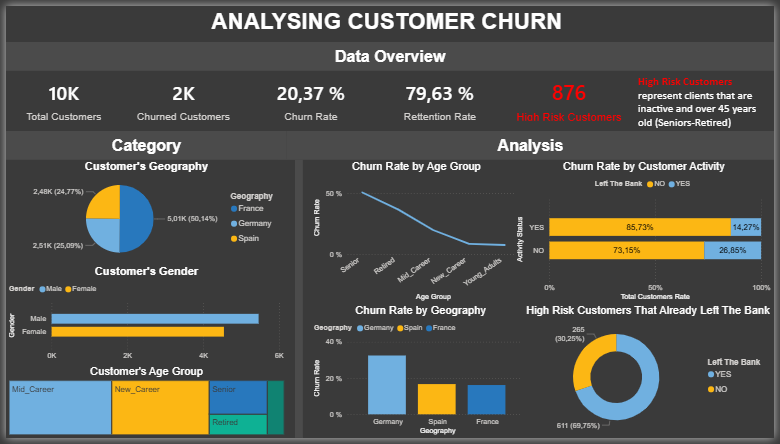

The page's visual inventory and layout, read from the dashboard file:
{"tool":"powerbi","page":{"name":"Page 1","canvas":[1280,720],"ordinal":0},"visuals":[{"type":"textbox","box":[0,0,1280.5,60],"z":0},{"type":"textbox","box":[0,60,1280.5,48.3],"z":1000},{"type":"cardVisual","fields":{"Data":["CountNonNull(Churn_Modelling_cleaned_CSV.CustomerId)"]},"box":[0,108.3,193.3,100],"z":2000},{"type":"cardVisual","fields":{"Data":["Churn_Modelling_cleaned_CSV.Churn Rate"]},"box":[398.3,108.3,220,100],"z":3000},{"type":"cardVisual","fields":{"Data":["Churn_Modelling_cleaned_CSV.Churned Customers"]},"box":[193.3,108.3,205,100],"z":5000},{"type":"cardVisual","fields":{"Data":["Churn_Modelling_cleaned_CSV.Rettention Rate"]},"box":[618.3,108.3,210,100],"z":6000},{"type":"cardVisual","fields":{"Data":["Churn_Modelling_cleaned_CSV.High Risk Customers"]},"box":[828.3,108.3,220,100],"z":7000},{"type":"textbox","box":[0,208.3,468.3,48.3],"z":8000},{"type":"pieChart","title":"Customer''s Geography","fields":{"Y":["CountNonNull(Churn_Modelling_cleaned_CSV.Geography)"],"Category":["Churn_Modelling_cleaned_CSV.Geography"]},"box":[0,256.7,468.3,175],"z":9000},{"type":"barChart","title":"Customer''s Gender","fields":{"Category":["Churn_Modelling_cleaned_CSV.Gender"],"Y":["CountNonNull(Churn_Modelling_cleaned_CSV.CustomerId)"],"Series":["Churn_Modelling_cleaned_CSV.Gender"]},"box":[0,431.7,468.3,166.7],"z":10000},{"type":"lineChart","fields":{"Category":["Churn_Modelling_cleaned_CSV.Custom"],"Y":["Churn_Modelling_cleaned_CSV.Churn Rate"]},"box":[508.6,257.1,351.4,240],"z":11000},{"type":"textbox","box":[468.3,208.3,811.7,48.3],"z":12000},{"type":"hundredPercentStackedBarChart","title":"Churn Rate by Customer Activity","fields":{"Y":["CountNonNull(Churn_Modelling_cleaned_CSV.CustomerId)"],"Category":["Churn_Modelling_cleaned_CSV.Activity_Status"],"Series":["Churn_Modelling_cleaned_CSV.Exited_txt"]},"box":[847.1,257.1,432.9,240],"z":13000},{"type":"lineStackedColumnComboChart","title":"Churn Rate by Geography","fields":{"Y":["Churn_Modelling_cleaned_CSV.Churn Rate"],"Category":["Churn_Modelling_cleaned_CSV.Geography"],"Series":["Churn_Modelling_cleaned_CSV.Geography"]},"box":[508.6,497.1,365.7,222.9],"z":14000},{"type":"donutChart","title":"High Risk Customers That Already Left The Bank","fields":{"Y":["Churn_Modelling_cleaned_CSV.High Risk Customers"],"Category":["Churn_Modelling_cleaned_CSV.Exited_txt"]},"box":[860,497.1,420,222.9],"z":15000},{"type":"treemap","title":"Customer''s Age Group","fields":{"Group":["Churn_Modelling_cleaned_CSV.Age Group"],"Values":["CountNonNull(Churn_Modelling_cleaned_CSV.Age Group)"]},"box":[0,598.6,468.6,121.4],"z":16000},{"type":"textbox","box":[1048.3,108.3,231.7,100],"z":16001},{"type":"textbox","box":[481.7,256.7,13.3,463.3],"z":16002}]}

Visuals, with their boxes in screenshot pixels (x1, y1, x2, y2), scaled from the page's 1280x720 canvas onto the 780x444 screenshot:
textbox: (x1=0, y1=0, x2=779, y2=37)
textbox: (x1=0, y1=37, x2=779, y2=67)
cardVisual - CountNonNull(Churn_Modelling_cleaned_CSV.CustomerId): (x1=0, y1=67, x2=118, y2=128)
cardVisual - Churn_Modelling_cleaned_CSV.Churn Rate: (x1=243, y1=67, x2=377, y2=128)
cardVisual - Churn_Modelling_cleaned_CSV.Churned Customers: (x1=118, y1=67, x2=243, y2=128)
cardVisual - Churn_Modelling_cleaned_CSV.Rettention Rate: (x1=377, y1=67, x2=505, y2=128)
cardVisual - Churn_Modelling_cleaned_CSV.High Risk Customers: (x1=505, y1=67, x2=639, y2=128)
textbox: (x1=0, y1=128, x2=285, y2=158)
"Customer''s Geography" pieChart: (x1=0, y1=158, x2=285, y2=266)
"Customer''s Gender" barChart: (x1=0, y1=266, x2=285, y2=369)
lineChart - Churn_Modelling_cleaned_CSV.Custom x Churn_Modelling_cleaned_CSV.Churn Rate: (x1=310, y1=159, x2=524, y2=307)
textbox: (x1=285, y1=128, x2=779, y2=158)
"Churn Rate by Customer Activity" hundredPercentStackedBarChart: (x1=516, y1=159, x2=779, y2=307)
"Churn Rate by Geography" lineStackedColumnComboChart: (x1=310, y1=307, x2=533, y2=443)
"High Risk Customers That Already Left The Bank" donutChart: (x1=524, y1=307, x2=779, y2=443)
"Customer''s Age Group" treemap: (x1=0, y1=369, x2=286, y2=443)
textbox: (x1=639, y1=67, x2=779, y2=128)
textbox: (x1=294, y1=158, x2=302, y2=443)
